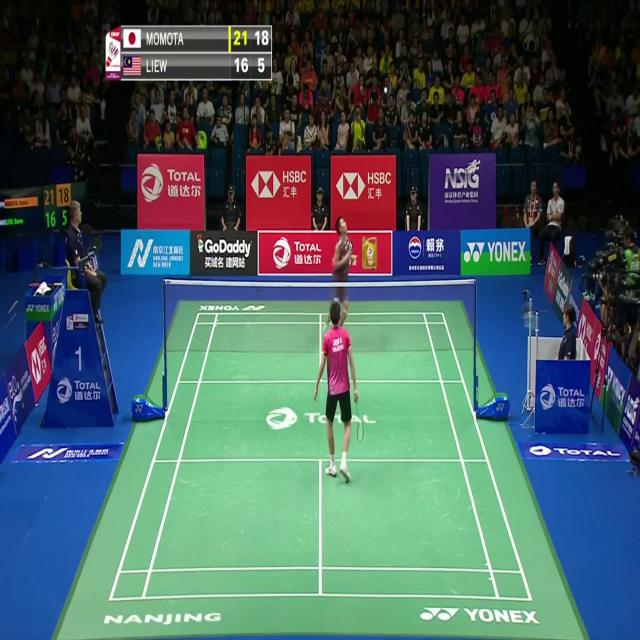Shuttlecock: (382, 83, 389, 95)
